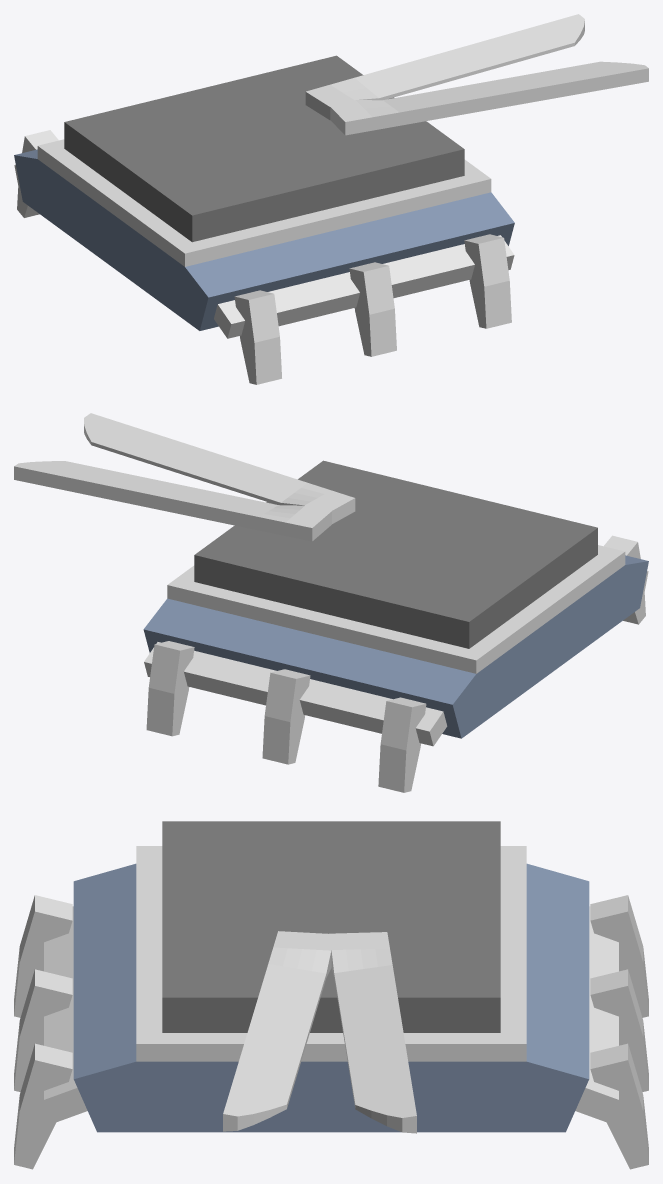
The model's file is Eneims.fbx.
3 views of the same model, one above another, from view 1: azimuth 30°, elevation 25°; view 2: azimuth 150°, elevation 25°; view 3: azimuth 270°, elevation 25° (orthographic). The views are drawn at different scales.
Visible parts, largest first — view 1: Cube, Cube.002, Cube.001, Cube.003, Cube.004, Cube.005, Cube.006; view 2: Cube, Cube.001, Cube.002, Cube.008, Cube.006, Cube.007, Cube.005; view 3: Cube, Cube.002, Cube.001, Cube.003, Cube.008, Cube.004, Cube.005, Cube.006, Cube.007.
Boxes of the visible parts, x1=… form: Cube: x1=14, y1=55, x2=514, y2=338; Cube.002: x1=330, y1=61, x2=648, y2=135; Cube.001: x1=305, y1=14, x2=584, y2=119; Cube.003: x1=464, y1=234, x2=511, y2=328; Cube.004: x1=349, y1=262, x2=396, y2=356; Cube.005: x1=234, y1=290, x2=281, y2=384; Cube.006: x1=17, y1=130, x2=58, y2=217; Cube: x1=143, y1=460, x2=648, y2=746; Cube.001: x1=14, y1=461, x2=331, y2=541; Cube.002: x1=84, y1=413, x2=355, y2=523; Cube.008: x1=146, y1=641, x2=194, y2=736; Cube.006: x1=378, y1=697, x2=426, y2=792; Cube.007: x1=262, y1=669, x2=310, y2=764; Cube.005: x1=604, y1=535, x2=645, y2=624; Cube: x1=44, y1=821, x2=618, y2=1132; Cube.002: x1=223, y1=931, x2=331, y2=1131; Cube.001: x1=329, y1=932, x2=416, y2=1133; Cube.003: x1=14, y1=1043, x2=72, y2=1169; Cube.008: x1=590, y1=1043, x2=648, y2=1169; Cube.004: x1=14, y1=969, x2=72, y2=1091; Cube.005: x1=14, y1=895, x2=72, y2=1017; Cube.006: x1=590, y1=895, x2=648, y2=1017; Cube.007: x1=590, y1=969, x2=648, y2=1091.
Bounding box in the file's own units: 392 × 110 × 325.
